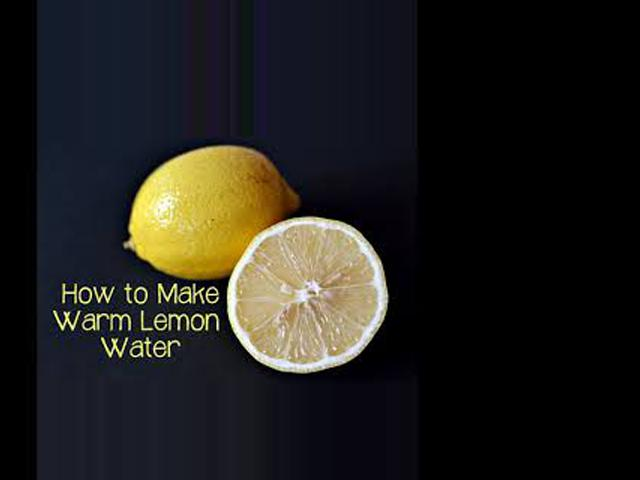lemon: (116, 140, 294, 268)
